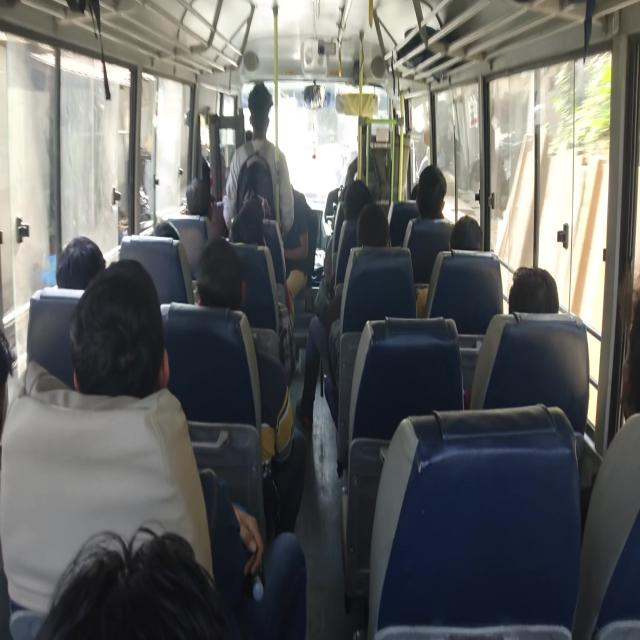person: (93, 549, 252, 640), (85, 279, 153, 412), (509, 266, 577, 344), (280, 182, 323, 277), (611, 304, 640, 423), (360, 197, 407, 256), (54, 250, 101, 299), (0, 326, 20, 427), (230, 210, 270, 260), (202, 245, 236, 302), (420, 172, 452, 230), (448, 211, 484, 252), (336, 176, 372, 216), (248, 87, 273, 131), (185, 175, 207, 219), (240, 189, 264, 215), (406, 179, 426, 202), (153, 220, 173, 240)
